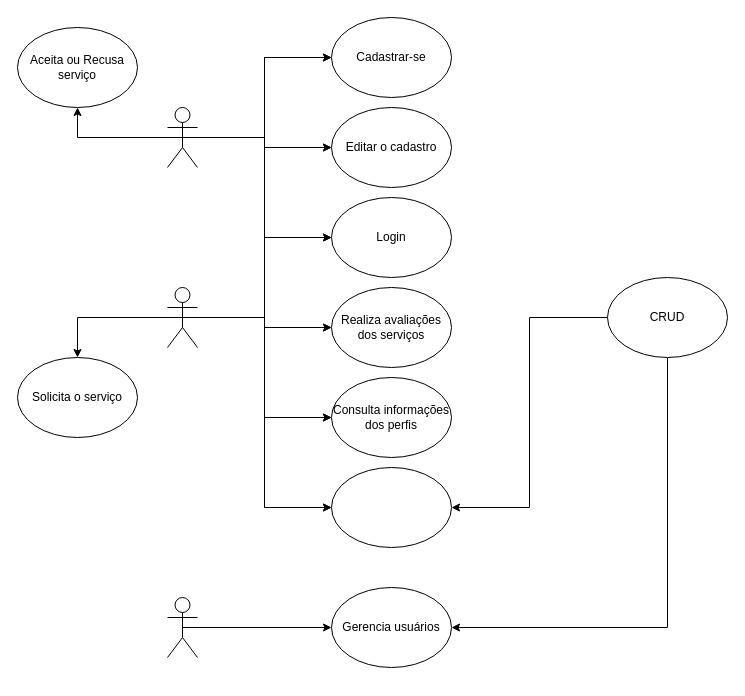
Image size: 745x696. Some labels were removed from this diagram. The shapes that lost their labels are listed below. From the top down, each one's centre as x and y in pixels, then its label:
point 182,137: Prestador de Serviços
point 182,317: Tomador de Serviços
point 391,507: Gerenciar agenda
point 182,627: Administrador
